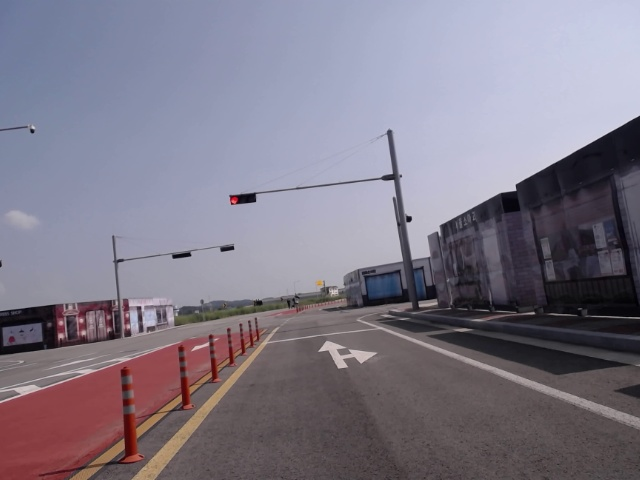red_3: (230, 194, 257, 205)
